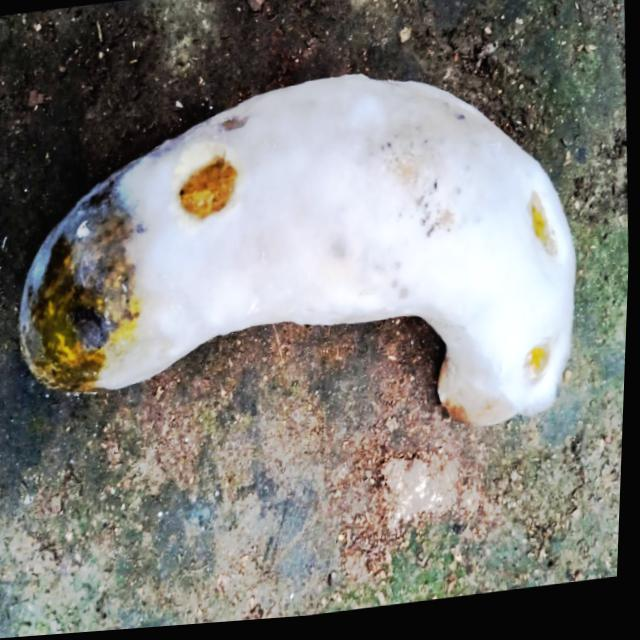Pythium-Fruit-Rot: (7, 51, 592, 493)
